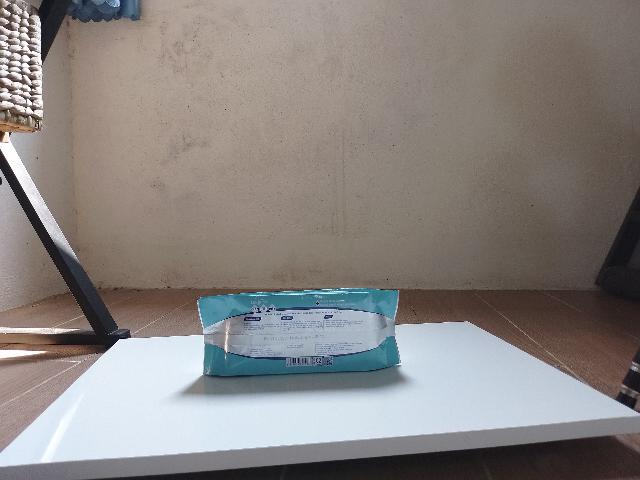Let-green_alcohol_wipes: (196, 288, 401, 380)
